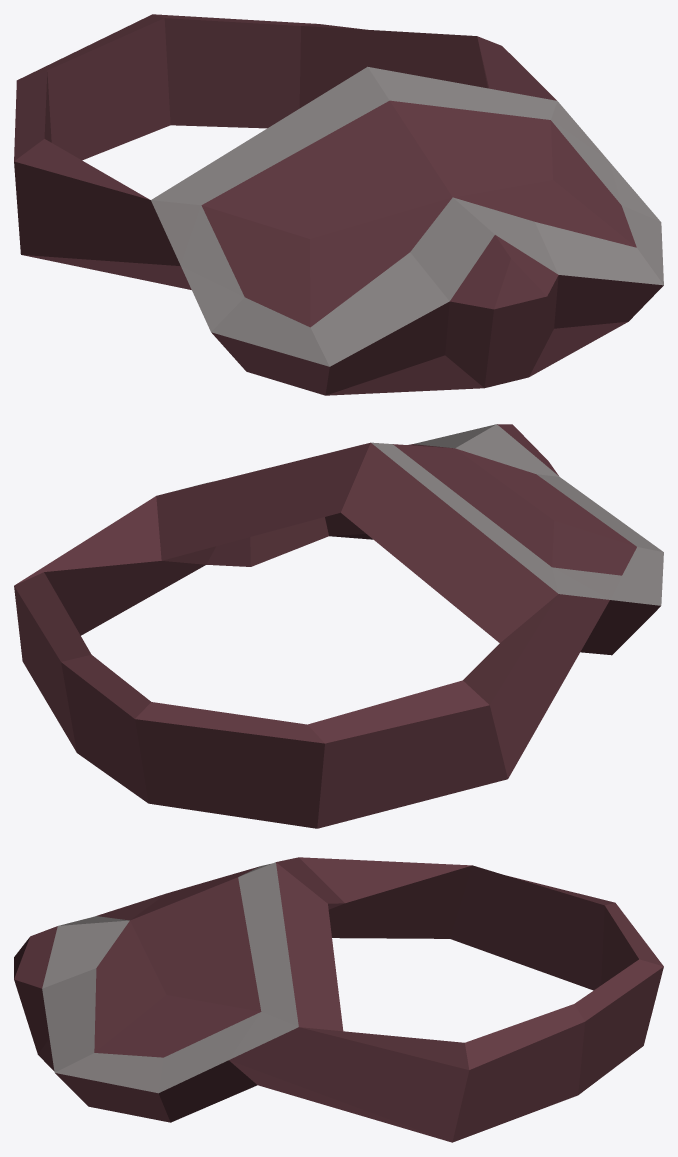
Rendered from scuba-mask.fbx.
3 views of the same model, one above another, from view 1: azimuth 30°, elevation 25°; view 2: azimuth 150°, elevation 25°; view 3: azimuth 270°, elevation 25° (orthographic). The views are drawn at different scales.
Parts seen in each view (by area): view 1: scuba-mask; view 2: scuba-mask; view 3: scuba-mask.
Part boxes in pixels (x1=…): scuba-mask: x1=14, y1=14, x2=663, y2=395; scuba-mask: x1=14, y1=424, x2=663, y2=828; scuba-mask: x1=14, y1=857, x2=663, y2=1142.
Bounding box in the file's own units: 0.177 × 0.0741 × 0.2369.
